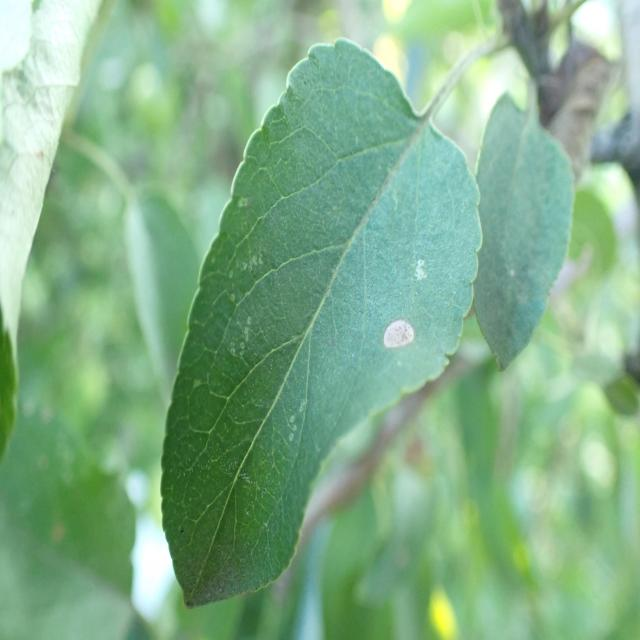Black Rot: (374, 295, 431, 363)
